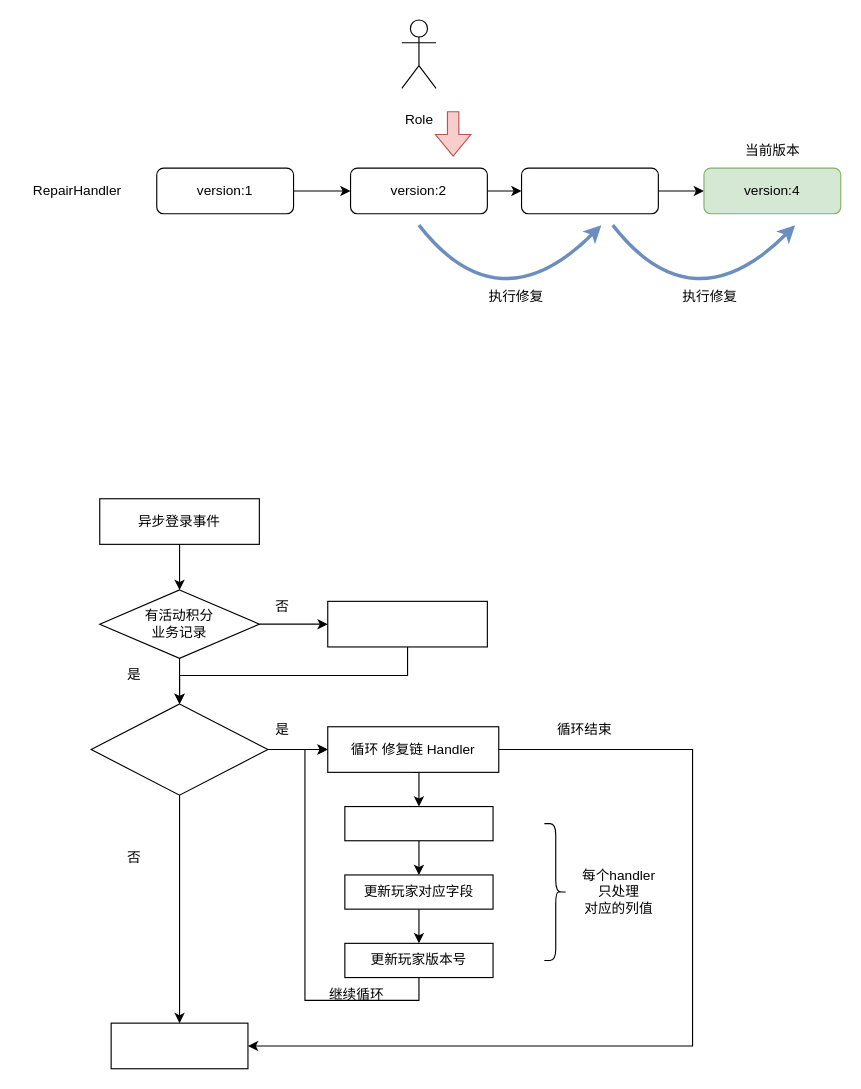
Some shapes in this 861 by 1089 pixel diagram are drawn without their labels. The centre of each missing label's shape, as x and y in pixels:
"new 业务记录 业务记录对应版本号为0" belongs at point 407,623.
"version:3" belongs at point 589,190.
"修复完成" belongs at point 179,1045.
"玩家版本号 不等于 当前版本号" belongs at point 179,749.
"获取导入数据" belongs at point 418,823.
